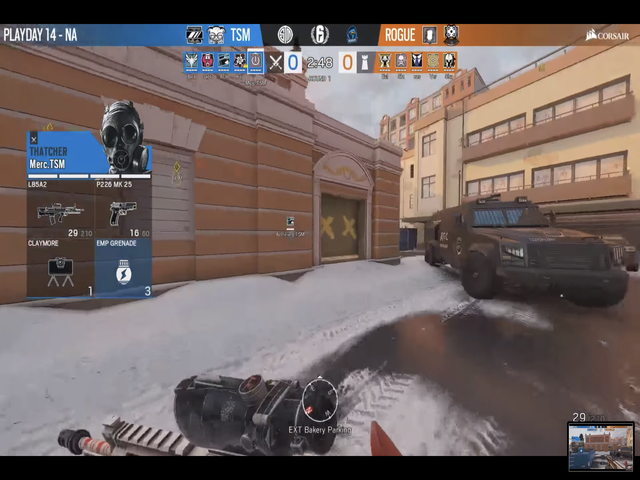0_blue: (283, 50, 302, 75)
